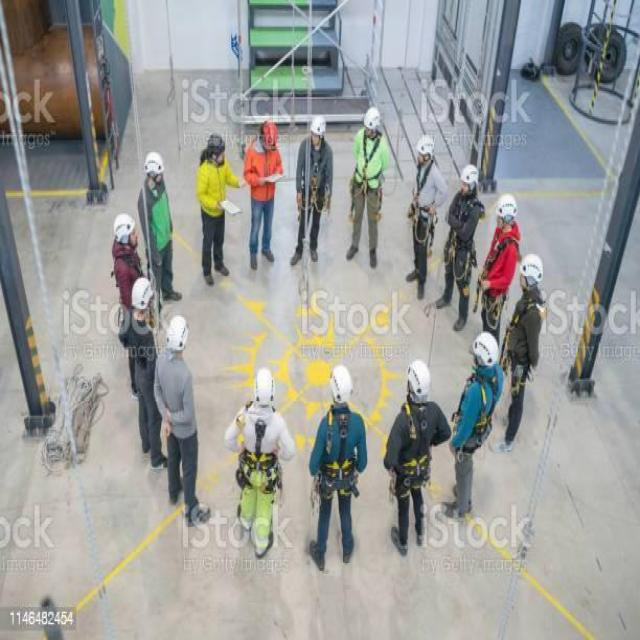Belt: (445, 362, 499, 456), (390, 396, 436, 503), (441, 194, 483, 289), (236, 412, 280, 500), (504, 295, 546, 386), (319, 408, 360, 500), (477, 234, 520, 317), (347, 128, 388, 211), (296, 135, 330, 215), (408, 160, 440, 243)
